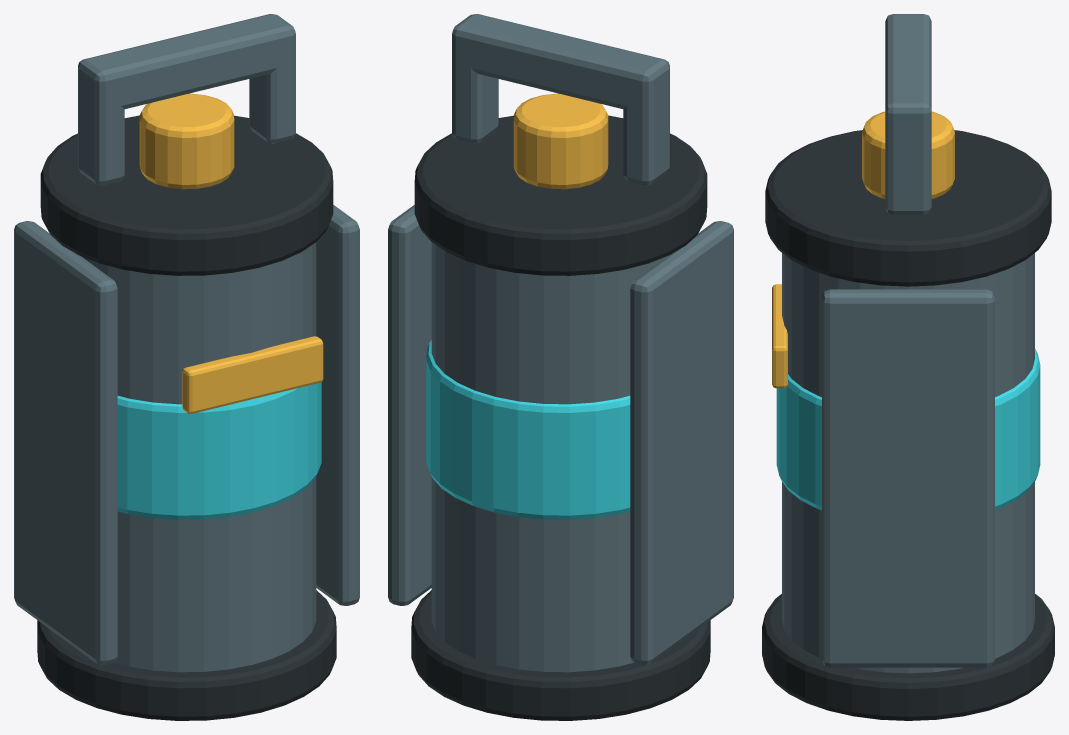
File: LPK_CoolingCanister.fbx
3 views of the same model, side by side, from view 1: azimuth 30°, elevation 25°; view 2: azimuth 150°, elevation 25°; view 3: azimuth 270°, elevation 25° (orthographic). The views are drawn at different scales.
Visible parts, largest first — view 1: PressureVessel, Guard_-1, ShoulderRing, CoolantBand, Guard_+1, FootRing, HandleTop, Valve, ReadabilityStripe, HandleLeft, HandleRight; view 2: PressureVessel, Guard_-1, ShoulderRing, CoolantBand, Guard_+1, FootRing, HandleTop, Valve, HandleLeft, HandleRight; view 3: Guard_+1, ShoulderRing, PressureVessel, FootRing, CoolantBand, HandleTop, HandleRight, Valve, ReadabilityStripe.
Boxes of the visible parts, <box> form: PressureVessel: <box>81,242,316,672</box>; Guard_-1: <box>14,221,117,664</box>; ShoulderRing: <box>40,115,333,275</box>; CoolantBand: <box>117,382,321,519</box>; Guard_+1: <box>316,205,359,605</box>; FootRing: <box>37,590,336,720</box>; HandleTop: <box>78,14,295,109</box>; Valve: <box>139,93,234,189</box>; ReadabilityStripe: <box>182,336,323,413</box>; HandleLeft: <box>78,82,124,185</box>; HandleRight: <box>249,49,295,143</box>; PressureVessel: <box>431,242,666,672</box>; Guard_-1: <box>630,221,733,664</box>; ShoulderRing: <box>414,115,707,275</box>; CoolantBand: <box>426,340,630,519</box>; Guard_+1: <box>388,205,431,605</box>; FootRing: <box>411,590,710,720</box>; HandleTop: <box>452,14,669,109</box>; Valve: <box>513,93,608,189</box>; HandleLeft: <box>623,83,669,185</box>; HandleRight: <box>452,49,498,143</box>; Guard_+1: <box>822,289,994,667</box>; ShoulderRing: <box>765,130,1051,286</box>; PressureVessel: <box>782,253,1034,673</box>; FootRing: <box>762,594,1054,720</box>; CoolantBand: <box>776,348,1040,510</box>; HandleTop: <box>885,14,931,141</box>; HandleRight: <box>885,126,931,214</box>; Valve: <box>862,111,954,198</box>; ReadabilityStripe: <box>772,284,787,388</box>.
Size of the model in its own units: 44.6 by 100 by 44.
